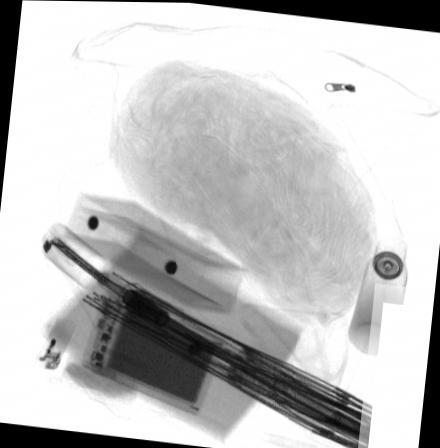Lighter: (35, 317, 75, 371)
Powerbank: (82, 274, 224, 414)
Sprayer: (346, 234, 408, 354)
